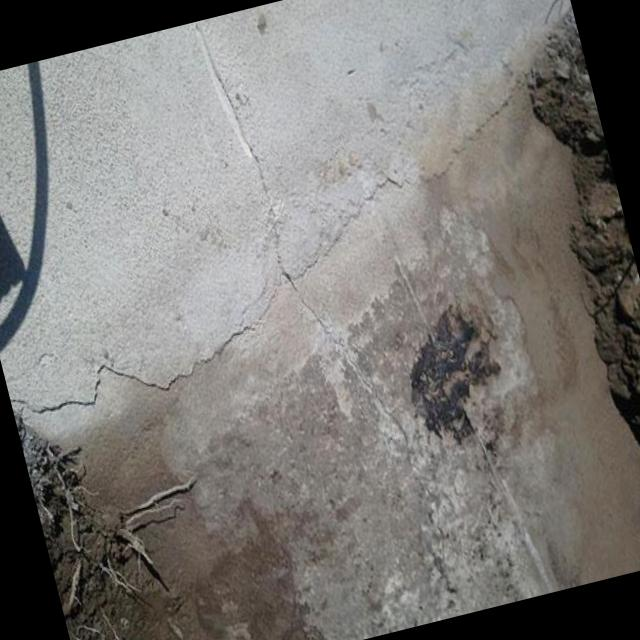crack: (193, 23, 406, 441), (12, 281, 275, 417)
